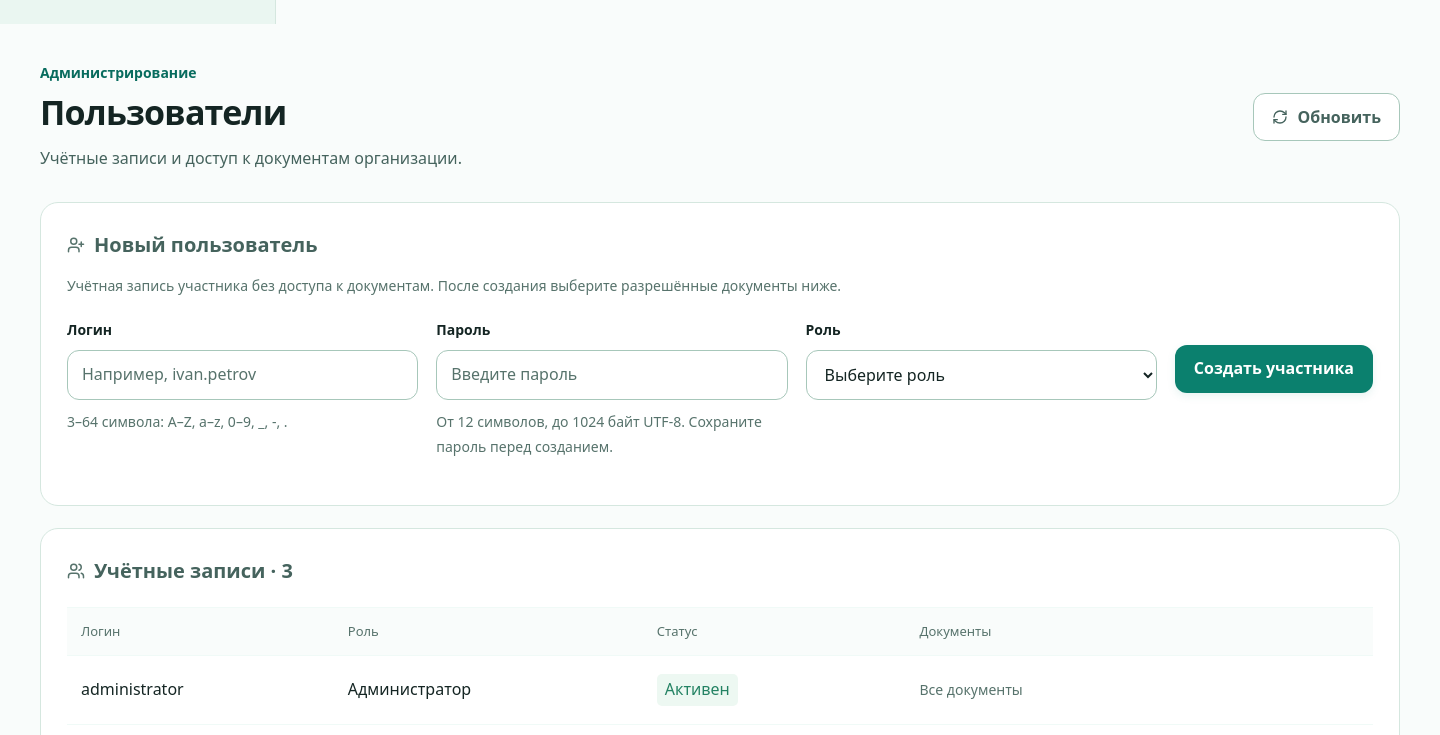
Test: member creation with a visual job role › validates valid without a request
(page scrolled)
In the field with id "new-username": (243, 375) [67, 350, 418, 400], type "valid"
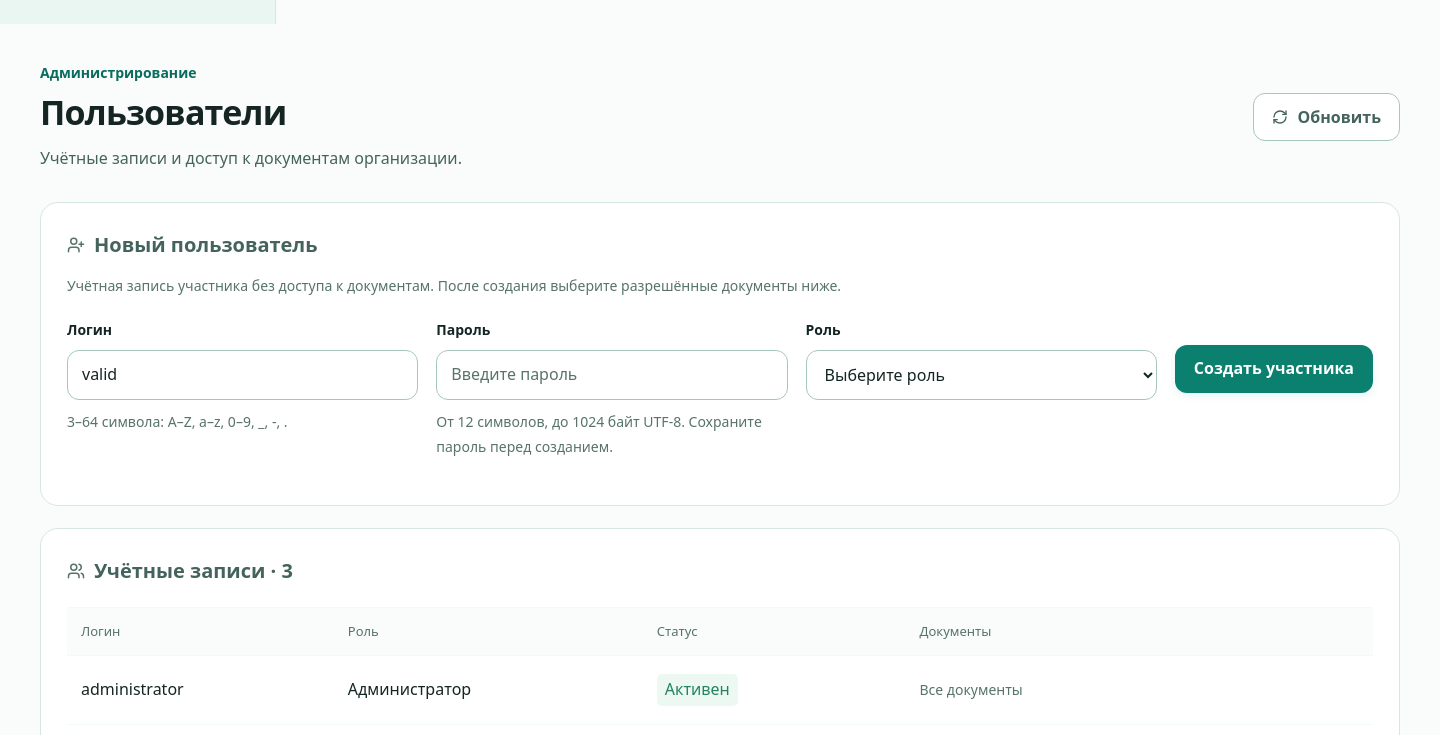
In the password field with id "new-password": (612, 375) [436, 350, 788, 400], type "short"
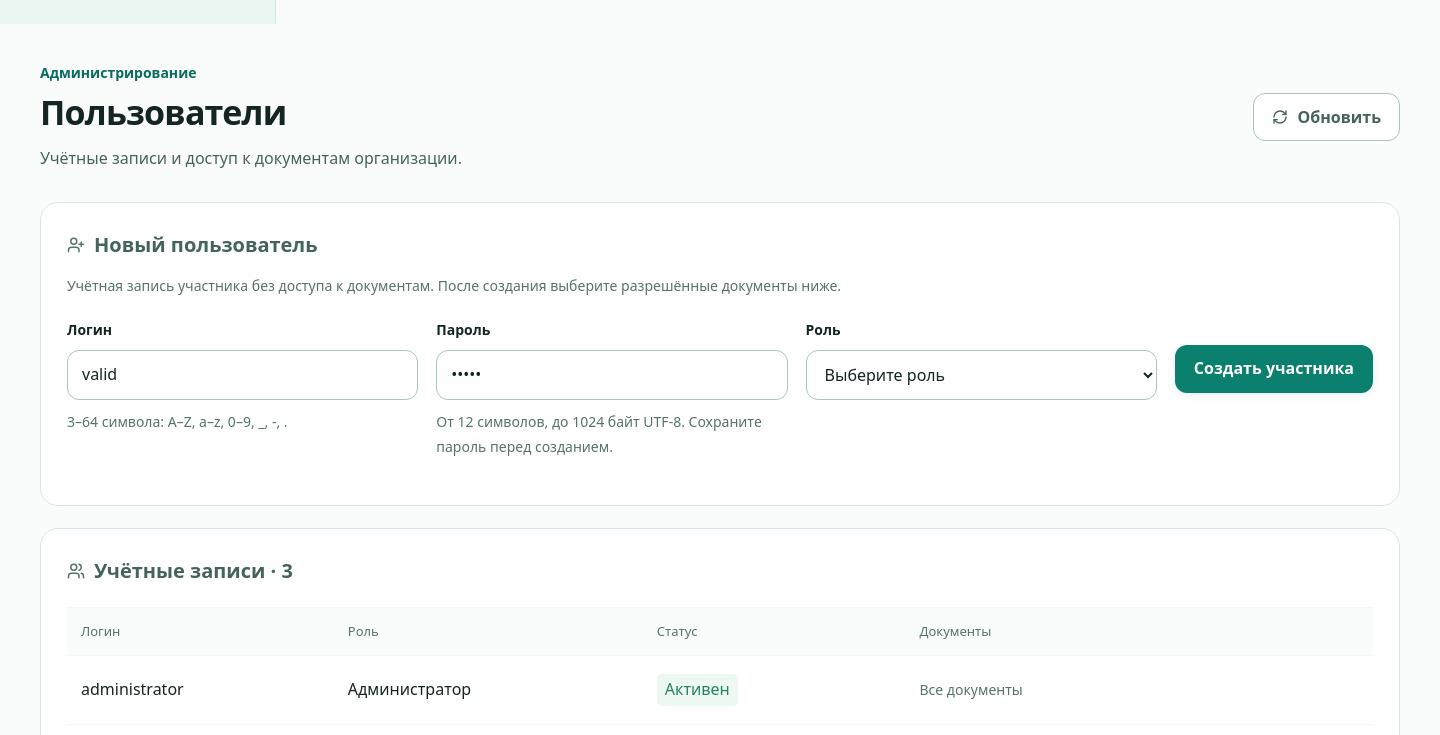
Submit the form, box [67, 319, 1373, 459]
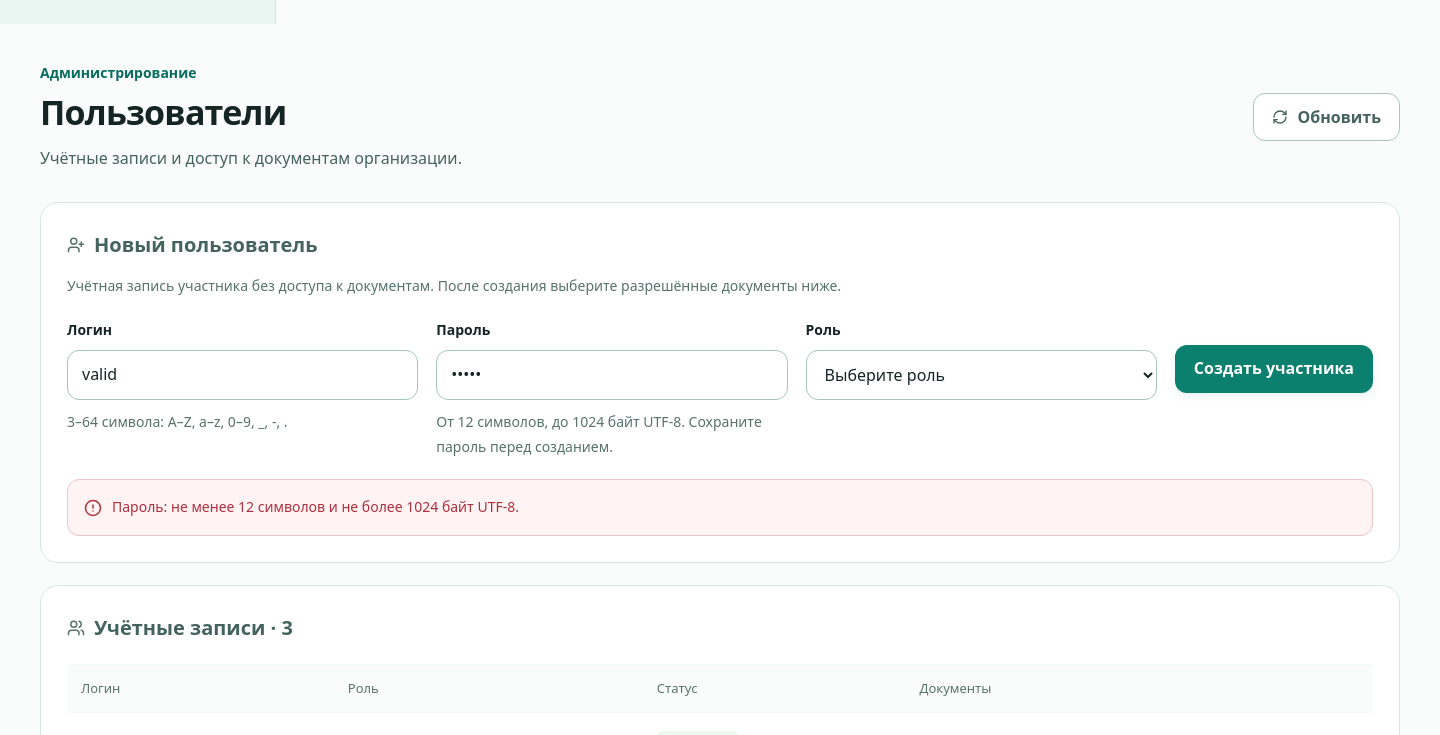
Check: the message "Пароль: не менее 12 символов и не более 1024 байт UTF-8." is shown, box [67, 479, 1373, 536]
